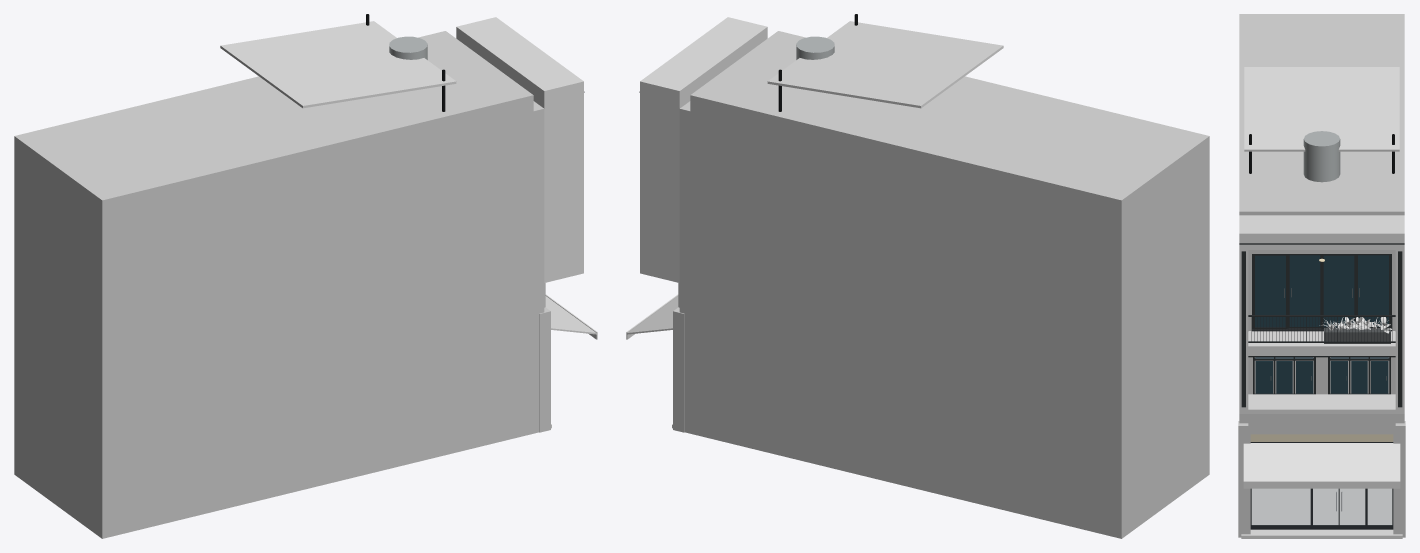
File: OW_Mau_NhaPho_5_5_2_B.fbx
The picture shows the model from 3 angles, left to right: view 1: azimuth 30°, elevation 25°; view 2: azimuth 150°, elevation 25°; view 3: azimuth 270°, elevation 25°; orthographic projection. The views are drawn at different scales.
Visible parts, largest first — view 1: OW_NhaPho_9021; view 2: OW_NhaPho_9021; view 3: OW_NhaPho_9021, OW_MatTienKinh.
Part boxes in pixels (box(x1,y1,x2,y2)): OW_NhaPho_9021: box(14, 14, 597, 538); OW_NhaPho_9021: box(626, 14, 1209, 538); OW_NhaPho_9021: box(1238, 14, 1405, 538); OW_MatTienKinh: box(1250, 434, 1393, 529).
Size of the model in its own units: 17.77 by 13.01 by 5.5.
